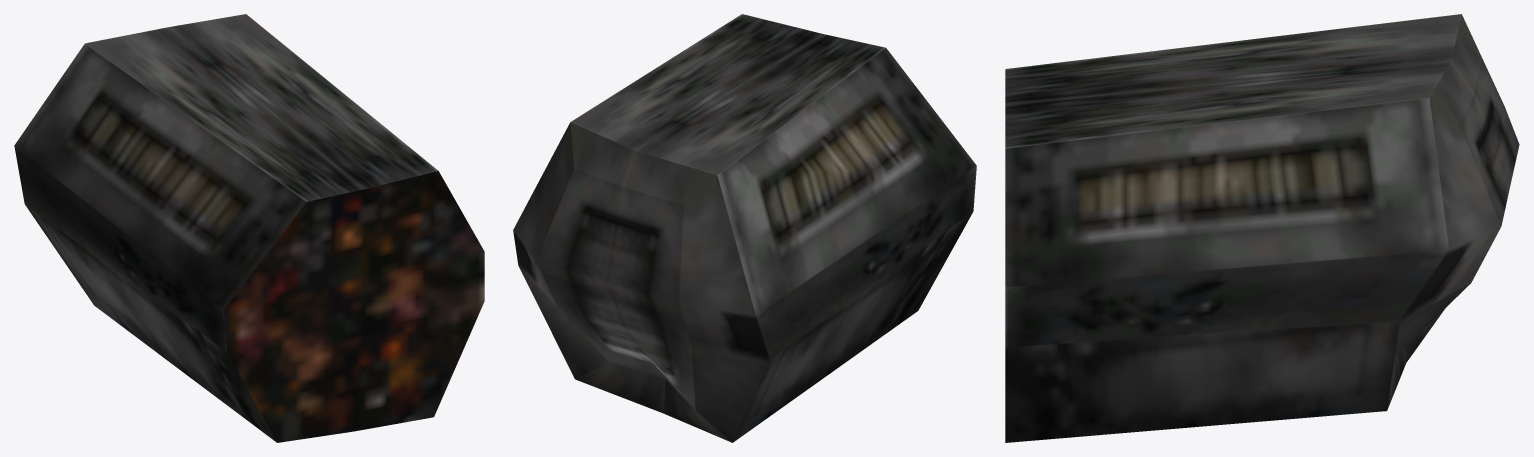
The model's file is cargo_debris_chunk_s01_l3.fbx.
The picture shows the model from 3 angles, left to right: view 1: azimuth 30°, elevation 25°; view 2: azimuth 150°, elevation 25°; view 3: azimuth 270°, elevation 25°; orthographic projection. The views are drawn at different scales.
Visible parts, largest first — view 1: mesh_node; view 2: mesh_node; view 3: mesh_node.
Part boxes in pixels (x1=…): mesh_node: x1=14, y1=14, x2=484, y2=442; mesh_node: x1=513, y1=14, x2=976, y2=442; mesh_node: x1=1005, y1=14, x2=1519, y2=442.
Size of the model in its own units: 7.24 by 7.25 by 10.01.
Materials: 1 (1 with a texture image).
